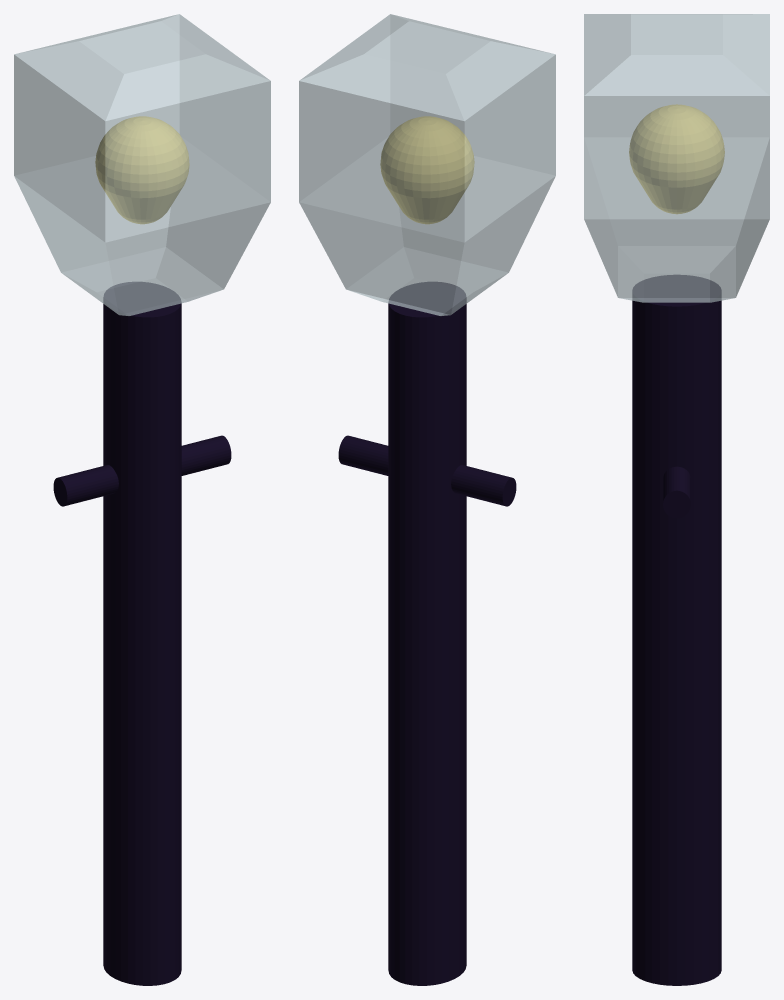
File: LightPost.fbx
3 renders of one model, left to right at view 1: azimuth 30°, elevation 25°; view 2: azimuth 150°, elevation 25°; view 3: azimuth 270°, elevation 25°, orthographic.
Parts seen in each view (by area): view 1: LampCage, Pole, LightBulb, MiniPole; view 2: LampCage, Pole, LightBulb, MiniPole; view 3: Pole, LampCage, LightBulb, MiniPole.
Boxes of the visible parts, box(x1,y1,x2,y2) form: LampCage: box(14, 14, 270, 315); Pole: box(103, 282, 181, 985); LightBulb: box(95, 116, 189, 224); MiniPole: box(53, 435, 231, 506); LampCage: box(299, 14, 555, 315); Pole: box(388, 282, 466, 985); LightBulb: box(380, 116, 474, 224); MiniPole: box(338, 435, 516, 506); Pole: box(632, 275, 721, 985); LampCage: box(584, 14, 769, 302); LightBulb: box(629, 104, 724, 214); MiniPole: box(663, 466, 690, 518).
Size of the model in its own units: 146 by 775 by 139.
